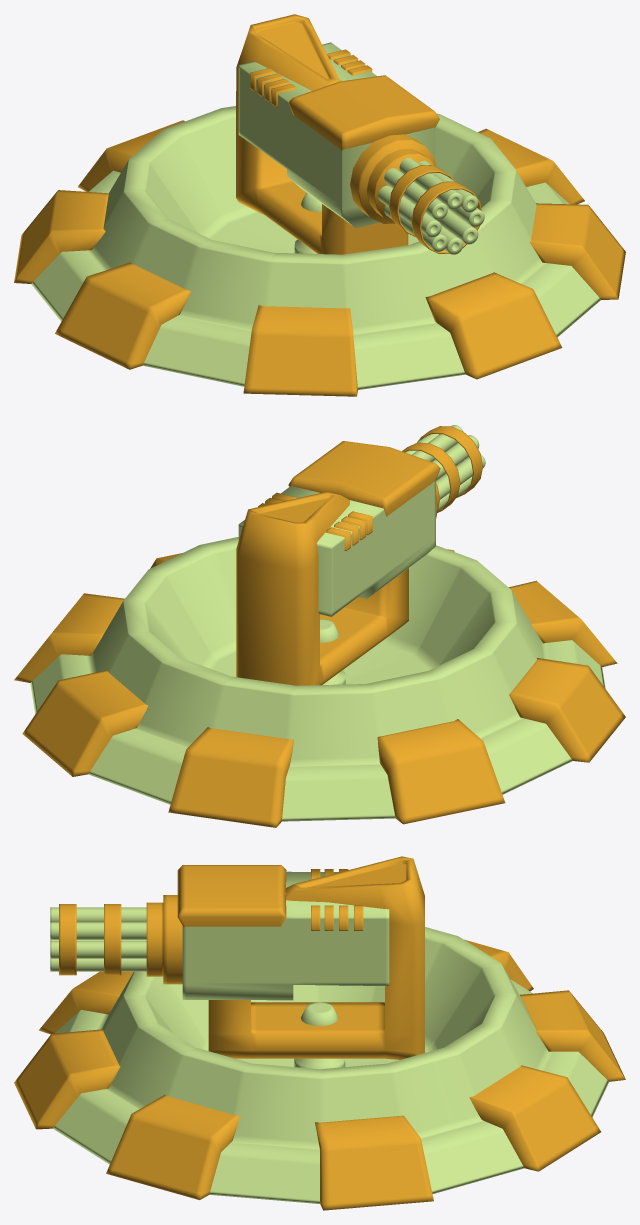
The model's file is torreta3.fbx.
3 renders of one model, top to bottom at view 1: azimuth 30°, elevation 25°; view 2: azimuth 150°, elevation 25°; view 3: azimuth 270°, elevation 25°, orthographic.
Visible parts, largest first — view 1: Circle.001, Circle.002, Cube, Plane.003, Plane.002, Circle, Cylinder.002, Plane; view 2: Circle.001, Circle.002, Cube, Plane.003, Plane.002, Circle, Cylinder.002, Plane; view 3: Circle.001, Circle.002, Cube, Plane.003, Plane.002, Circle, Cylinder.002, Plane.
Part boxes in pixels (x1,y1,x2,y2): Circle.001: (31,106,600,389); Circle.002: (14,120,625,396); Cube: (236,14,408,254); Plane.003: (238,42,435,228); Plane.002: (288,75,439,150); Circle: (350,134,481,253); Cylinder.002: (378,158,484,254); Plane: (250,49,372,107); Circle.001: (30,537,605,821); Circle.002: (14,549,625,827); Cube: (236,491,408,685); Plane.003: (238,480,435,616); Plane.002: (288,441,440,516); Circle: (402,426,482,518); Cylinder.002: (405,425,485,510); Plane: (258,492,372,550); Circle.001: (53,927,608,1203); Circle.002: (14,939,625,1210); Cube: (208,856,424,1059); Plane.003: (182,871,389,1000); Plane.002: (177,865,286,926); Circle: (59,895,182,984); Cylinder.002: (50,907,146,971); Plane: (311,869,363,930).
Bounding box in the file's own units: 1236 × 473 × 1236.
